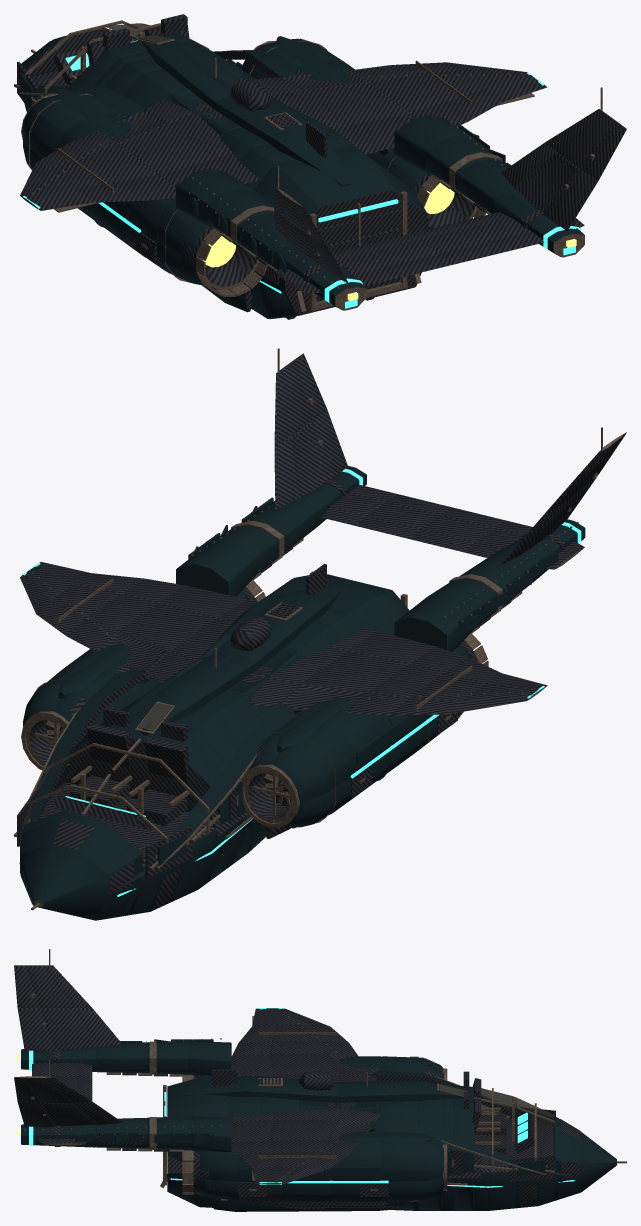
3 renders of one model, top to bottom at view 1: azimuth 30°, elevation 25°; view 2: azimuth 150°, elevation 25°; view 3: azimuth 270°, elevation 25°, orthographic. The views are drawn at different scales.
Parts seen in each view (by area): view 1: kb7_core, kb7_tail_r, kb7_wing_l, kb7_wing_r, kb7_tail_l; view 2: kb7_core, kb7_tail_r, kb7_wing_r, kb7_wing_l, kb7_tail_l; view 3: kb7_core, kb7_tail_l, kb7_wing_l, kb7_tail_r, kb7_wing_r.
Boxes of the visible parts, x1,y1,x2,y2 form: kb7_core: (14,14,584,319); kb7_tail_r: (410,87,626,264); kb7_wing_l: (20,132,175,212); kb7_wing_r: (348,60,547,126); kb7_tail_l: (274,166,452,293); kb7_core: (14,466,585,920); kb7_tail_r: (274,348,452,538); kb7_wing_r: (20,562,184,651); kb7_wing_l: (347,646,547,715); kb7_tail_l: (410,427,626,569); kb7_core: (17,1038,626,1211); kb7_tail_l: (14,949,122,1095); kb7_wing_l: (232,1008,358,1056); kb7_tail_r: (14,1060,122,1145); kb7_wing_r: (232,1140,358,1184).
Bounding box in the file's own units: 5.8 × 2.87 × 8.59.
Materials: 6 (2 with a texture image).
